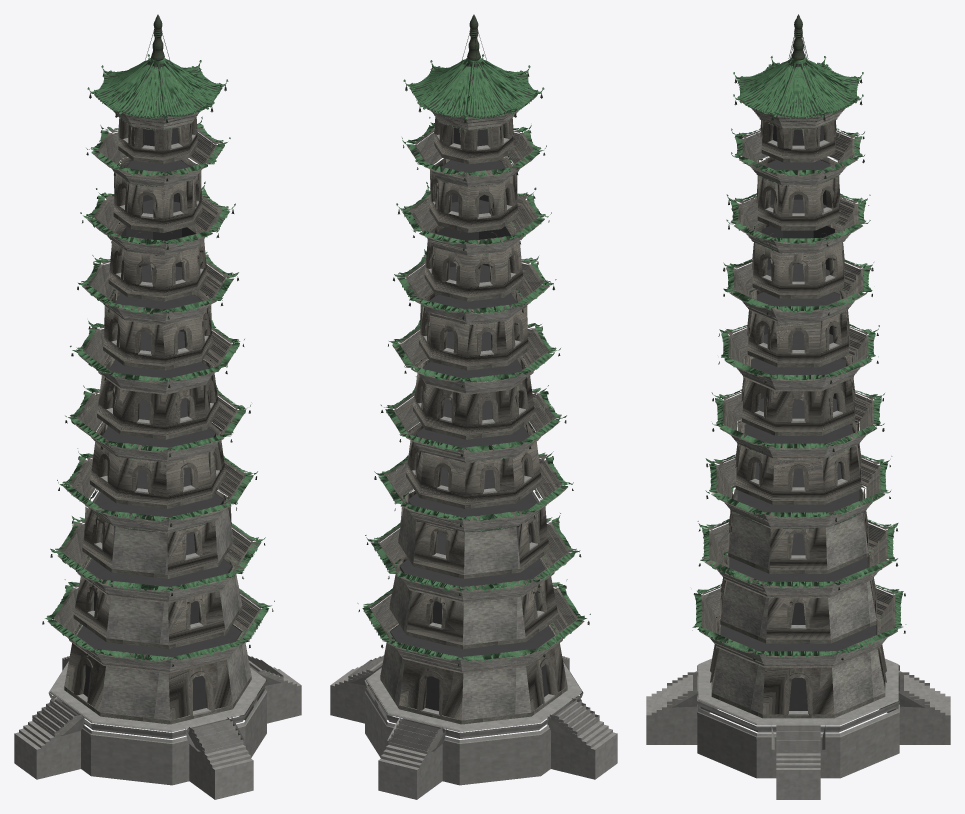
3 views of the same model, side by side, from view 1: azimuth 30°, elevation 25°; view 2: azimuth 150°, elevation 25°; view 3: azimuth 270°, elevation 25° (orthographic).
Parts seen in each view (by area): view 1: 塔身, Longxiang_Foundation, 塔顶, 塔基; view 2: 塔身, Longxiang_Foundation, 塔顶, 塔基; view 3: 塔身, Longxiang_Foundation, 塔基, 塔顶.
Boxes of the visible parts, x1,y1,x2,y2 form: 塔身: (42, 95, 274, 724); Longxiang_Foundation: (14, 656, 301, 799); 塔顶: (87, 14, 228, 130); 塔基: (32, 655, 283, 751); 塔身: (357, 116, 590, 724); Longxiang_Foundation: (330, 656, 617, 799); 塔顶: (403, 14, 544, 130); 塔基: (348, 655, 599, 751); 塔身: (692, 120, 906, 718); Longxiang_Foundation: (646, 672, 950, 799); 塔基: (667, 658, 929, 750); 塔顶: (733, 14, 863, 129).
Size of the model in its own units: 21.14 by 55.34 by 21.14.
13 materials, 13 textured.
